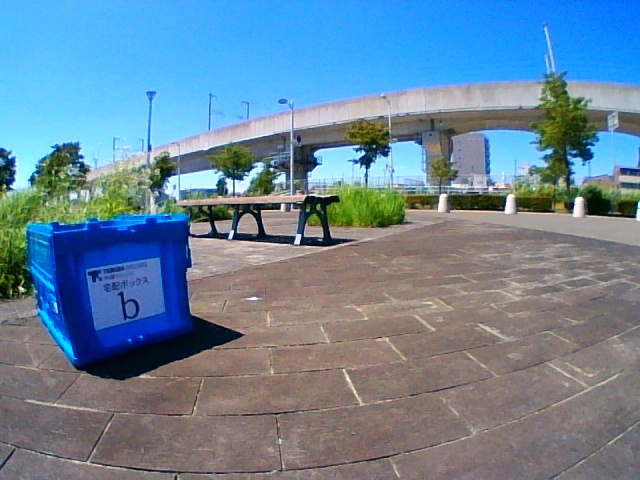blue_box: (46, 225, 177, 331)
tag_b: (103, 276, 141, 320)
